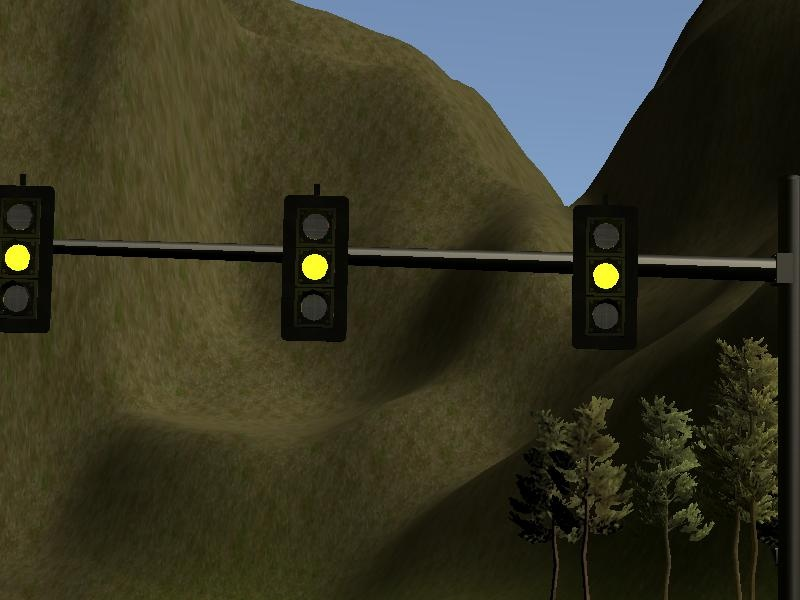YELLOW: (568, 202, 639, 350), (280, 192, 351, 340), (1, 182, 56, 334)
